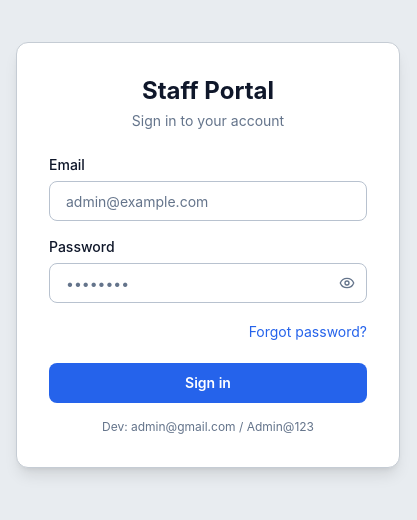
Test: AdminLoginPage › shows invalid credentials on other errors
Type "admin@test.com" into the field with placeholder "admin@example.com".
click(208, 201); type("admin@test.com")  # box [49, 181, 367, 221]
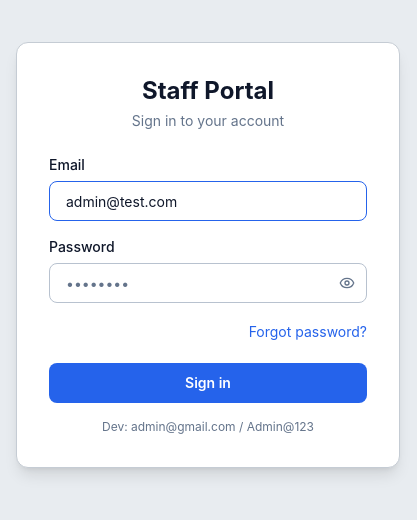
Type "password123" into the password field with placeholder "••••••••".
click(208, 283); type("password123")  # box [49, 263, 367, 303]
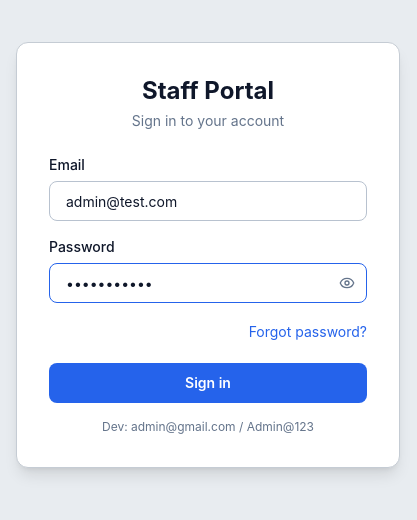
Click the button "Sign in".
click(208, 383)  # box [49, 363, 367, 403]
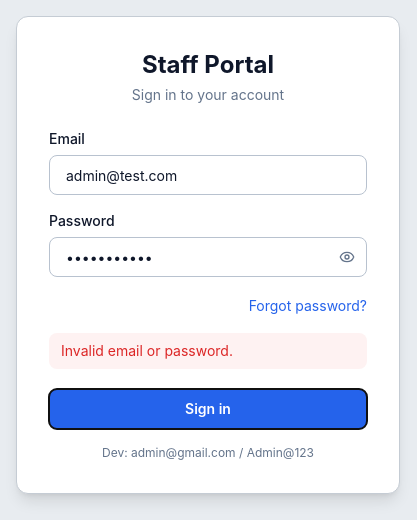
Expected: the text "Invalid email or password." is shown, [49, 333, 367, 369]
